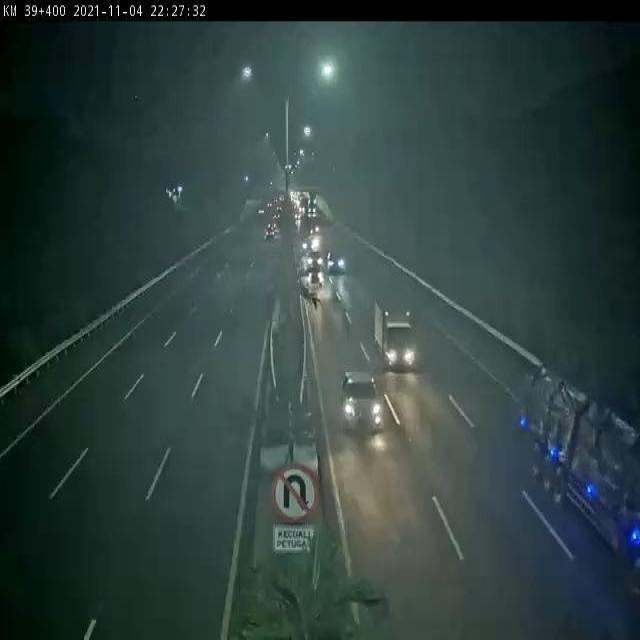Car: (338, 371, 382, 432), (326, 250, 346, 274), (306, 250, 324, 268)
Truck: (522, 360, 640, 588), (372, 300, 418, 373)
